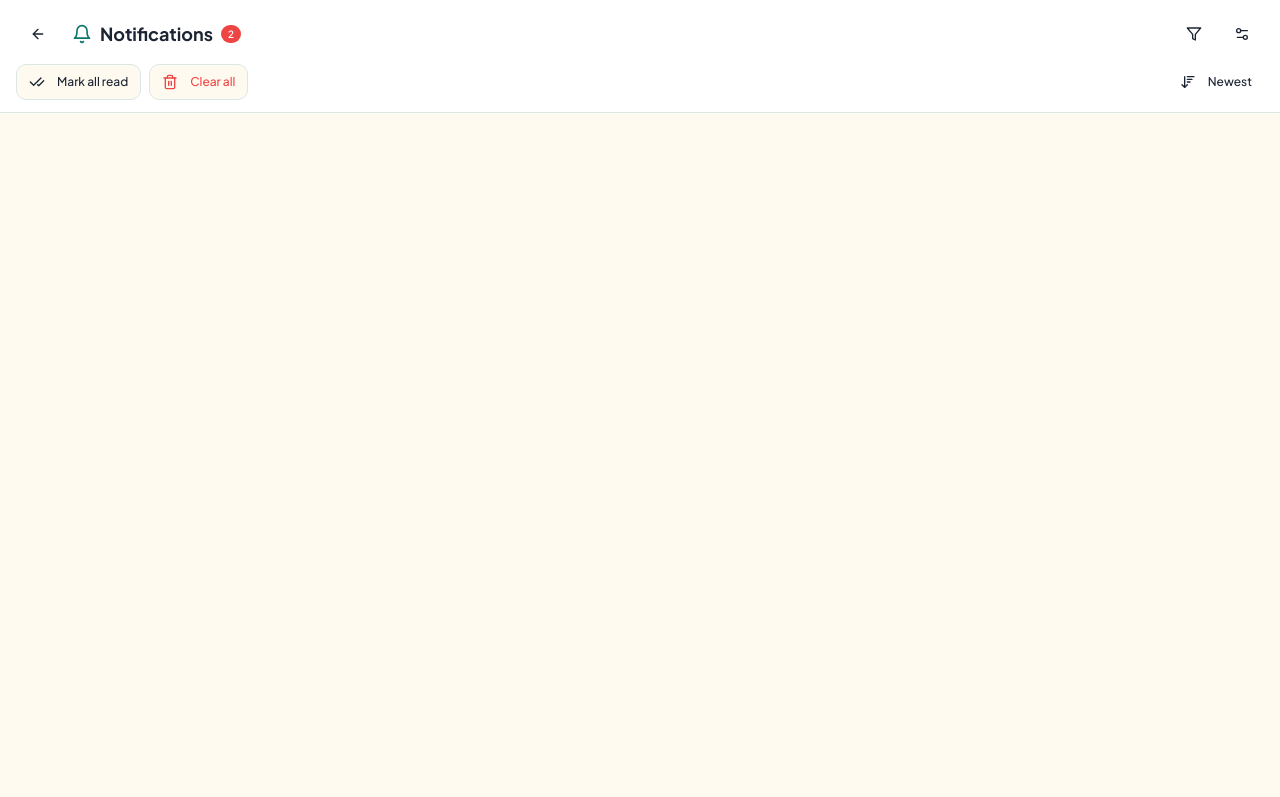
Notification filters › Notifications page sort Oldest shows correct order
Click sort to toggle to Oldest
Click the button "Newest".
click(1216, 82)  # box x1=1168 y1=64 x2=1264 y2=100
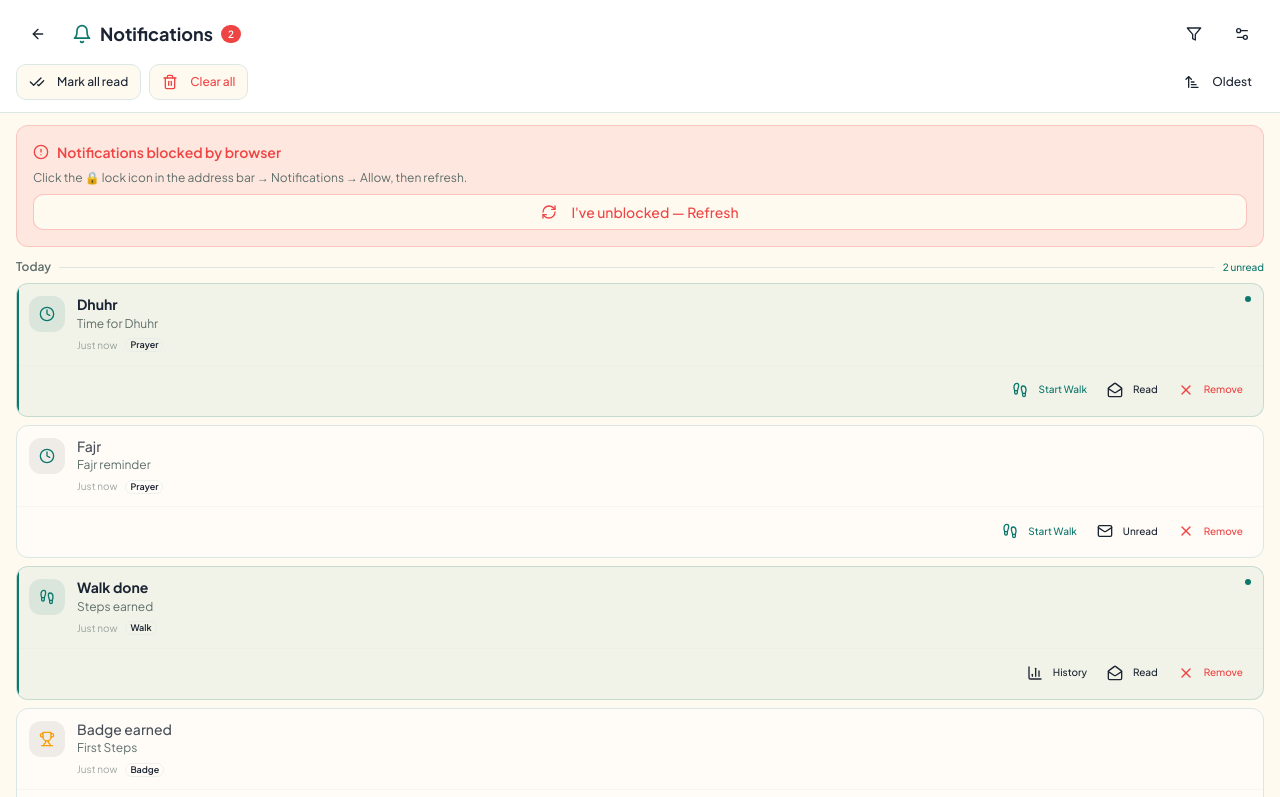
Check: the text "Dhuhr" is shown, box x1=77 y1=296 x2=118 y2=314
Check: the text "Badge earned" is shown, box x1=77 y1=720 x2=172 y2=738
